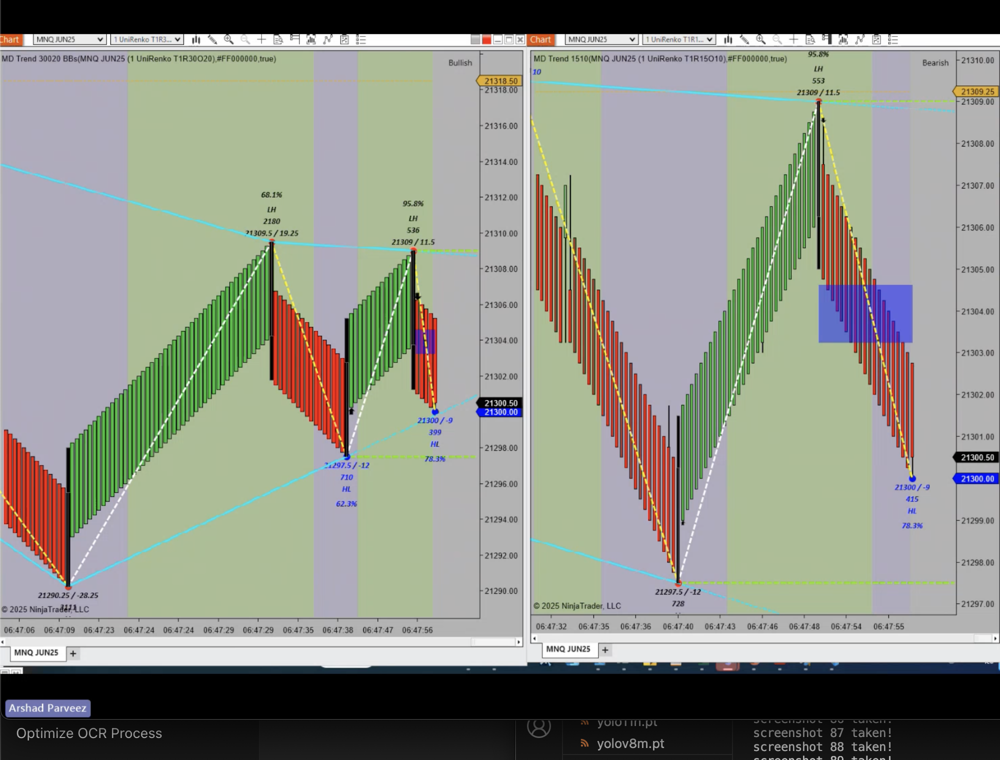HL: (900, 503, 928, 520), (423, 433, 447, 452), (336, 480, 361, 498)
LH: (809, 60, 833, 79), (259, 203, 286, 218), (403, 212, 427, 225)
